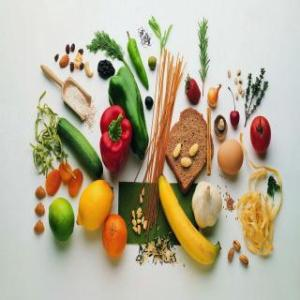bell_pepper: (96, 109, 130, 178)
egg: (216, 138, 246, 178)
garlic: (238, 68, 242, 76), (234, 76, 238, 84), (238, 86, 242, 92), (242, 88, 244, 98), (228, 71, 230, 79), (235, 92, 237, 100)
onion: (188, 178, 224, 232), (209, 87, 220, 109)
tomato: (250, 114, 272, 157)
zucchini: (54, 114, 103, 184)
